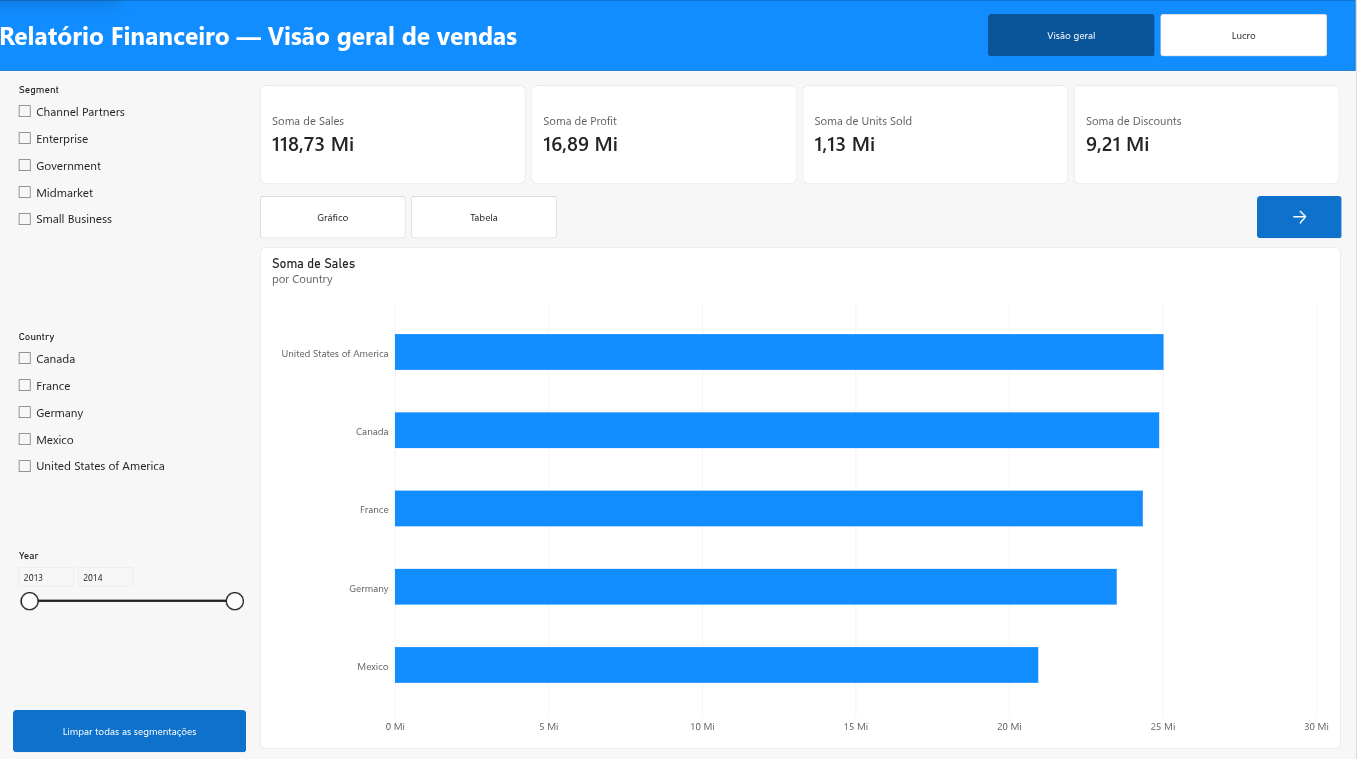

The page's visual inventory and layout, read from the dashboard file:
{"tool":"powerbi","page":{"name":"Visão geral","canvas":[1920,1080],"ordinal":0},"visuals":[{"type":"cardVisual","fields":{"Data":["Sum(financials. Sales)","Sum(financials.Profit)","Sum(financials.Units Sold)","Sum(financials.Discounts)"]},"box":[370,120,1530,140],"z":0},{"type":"slicer","fields":{"Values":["financials.Segment"]},"box":[20,120,330,330],"z":1000},{"type":"slicer","fields":{"Values":["financials.Country"]},"box":[20,470,330,300],"z":2000},{"type":"slicer","fields":{"Values":["financials.Year"]},"box":[20,780,330,200],"z":3000},{"type":"clusteredBarChart","fields":{"Category":["financials.Country"],"Y":["Sum(financials. Sales)"]},"box":[370,350,1530,710],"z":5000},{"type":"bookmarkNavigator","box":[370,278,420,60],"z":6000},{"type":"shape","box":[0,0,1920,100],"z":7000},{"type":"pageNavigator","box":[1400,20,480,60],"z":8000},{"type":"actionButton","box":[1780,278,120,60],"z":9000},{"type":"actionButton","box":[20,1005,330,60],"z":9001}]}

Visuals, with their boxes in screenshot pixels (x1, y1, x2, y2), scaled from the page's 1920x1080 canvas onto the 1357x759 screenshot:
cardVisual - Sum(financials. Sales) x Sum(financials.Profit): 262,84,1343,183
slicer - financials.Segment: 14,84,247,316
slicer - financials.Country: 14,330,247,541
slicer - financials.Year: 14,548,247,689
clusteredBarChart - financials.Country x Sum(financials. Sales): 262,246,1343,745
bookmarkNavigator: 262,195,558,238
shape: 0,0,1356,70
pageNavigator: 989,14,1329,56
actionButton: 1258,195,1343,238
actionButton: 14,706,247,748
